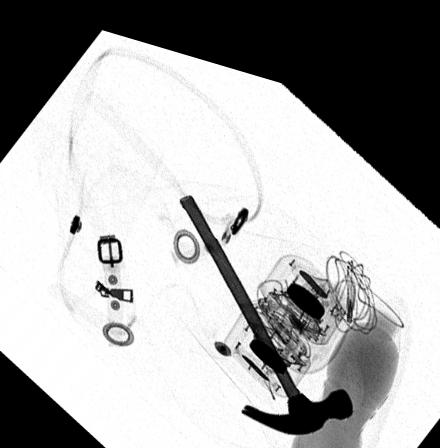Hammer: (178, 181, 353, 417)
